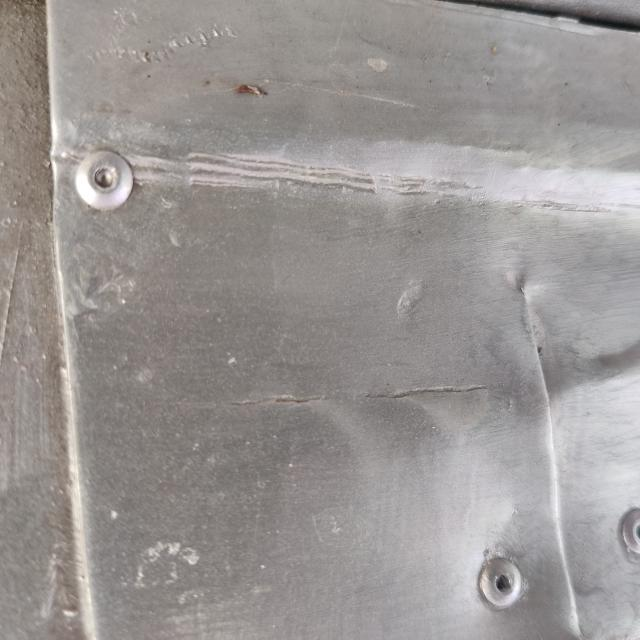scratch: (209, 318, 525, 473)
